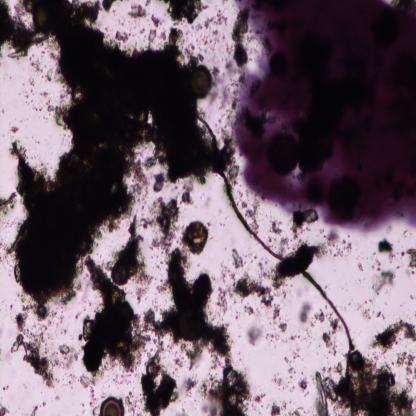Background material: (9, 2, 228, 314), (148, 246, 230, 365), (79, 256, 149, 374), (336, 350, 416, 415), (198, 353, 266, 414), (10, 309, 61, 390), (116, 215, 153, 301), (0, 1, 52, 62), (142, 354, 180, 416), (18, 59, 57, 118), (272, 241, 319, 289), (152, 193, 184, 262), (192, 9, 228, 60), (229, 271, 275, 309), (370, 318, 416, 352), (230, 6, 252, 72), (211, 63, 241, 111), (220, 126, 242, 184), (273, 347, 302, 389), (315, 229, 353, 258), (314, 370, 339, 414), (183, 220, 209, 256), (214, 264, 231, 312), (167, 0, 202, 23), (371, 266, 395, 297), (270, 304, 290, 341), (290, 206, 318, 232), (179, 174, 198, 208), (244, 195, 262, 228), (76, 372, 98, 396), (60, 342, 78, 370), (0, 188, 17, 216), (399, 352, 416, 378), (378, 238, 396, 262), (152, 168, 168, 194), (247, 323, 263, 348), (126, 2, 148, 20), (250, 250, 268, 270), (125, 394, 142, 414), (182, 375, 197, 397), (231, 247, 244, 271), (357, 300, 371, 322), (323, 334, 337, 354), (327, 316, 344, 332), (269, 218, 284, 236), (311, 309, 326, 327), (298, 302, 310, 324), (405, 246, 416, 270), (30, 398, 44, 416), (9, 121, 22, 140), (149, 14, 165, 29), (270, 400, 286, 414), (298, 374, 308, 395), (115, 30, 131, 43), (353, 258, 365, 275), (102, 0, 116, 13), (146, 28, 158, 42), (289, 332, 302, 344), (242, 305, 255, 316), (0, 403, 11, 415), (376, 309, 384, 321), (0, 385, 7, 390)
Diatom: (190, 64, 213, 99), (31, 5, 54, 32), (100, 398, 124, 415)
Pen: (236, 0, 416, 228)
